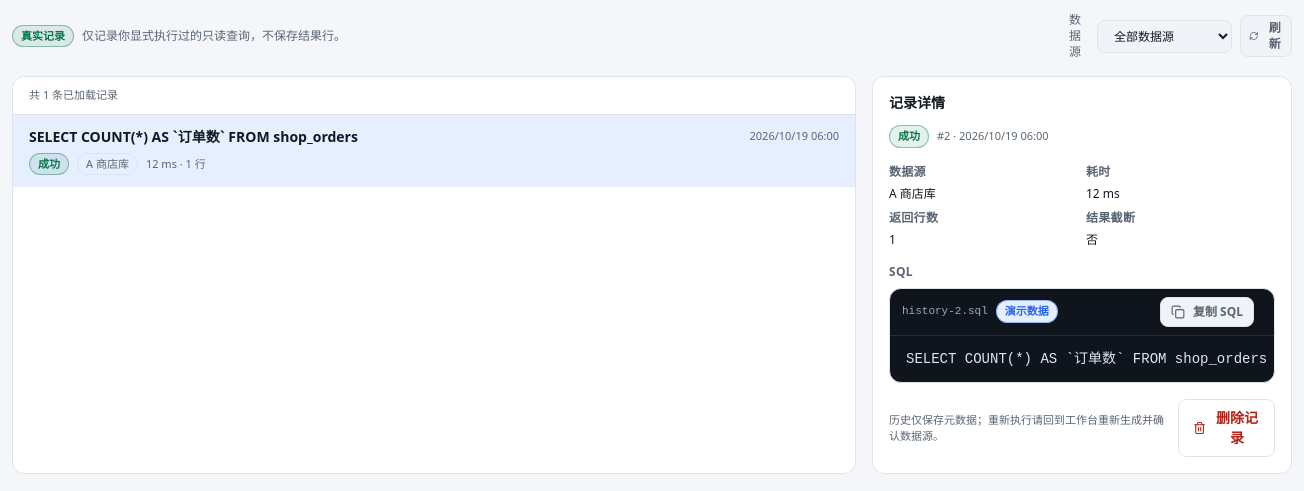
Scenario: HistoryPage 真实查询历史 › 删除需要二次确认，删除后列表回到空状态
Click the button "删除记录": (1226, 428) [1178,399,1275,457]
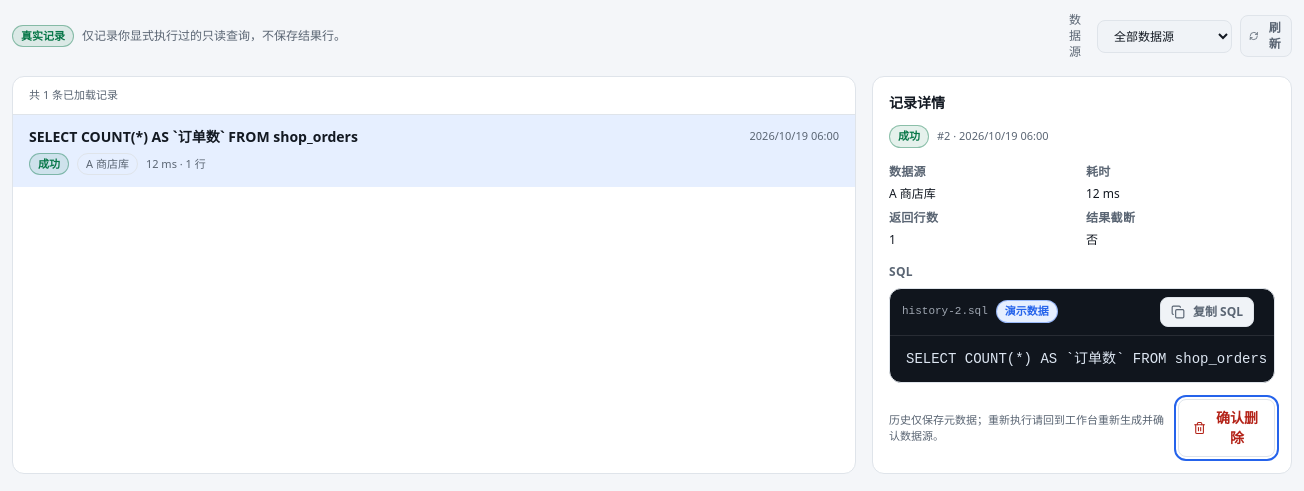
Click the button "确认删除": (1226, 428) [1178,399,1275,457]
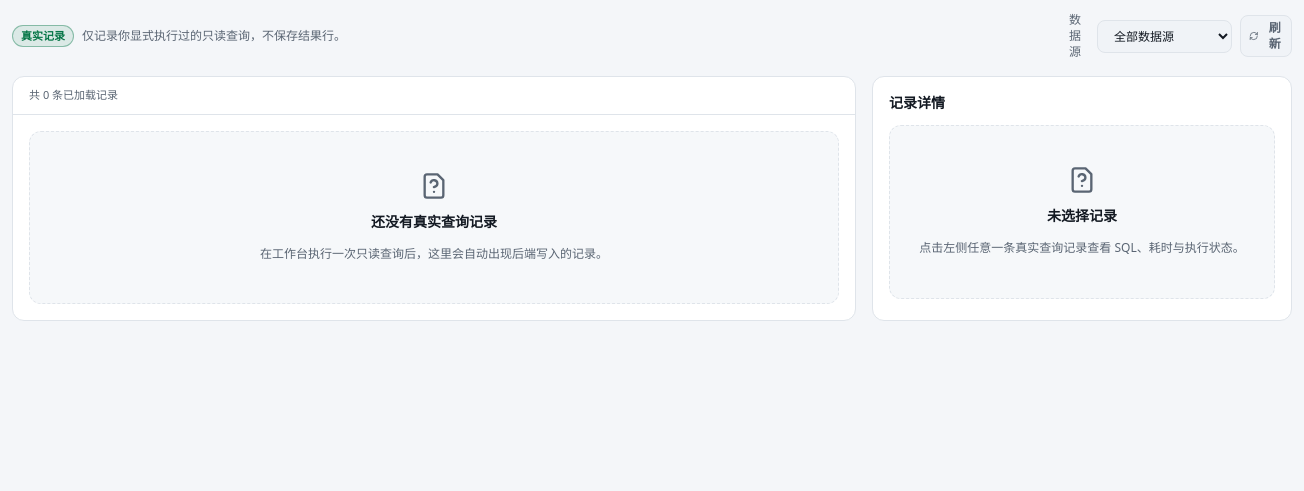
expect the text "还没有真实查询记录" is shown: met, box [371,212,497,232]
